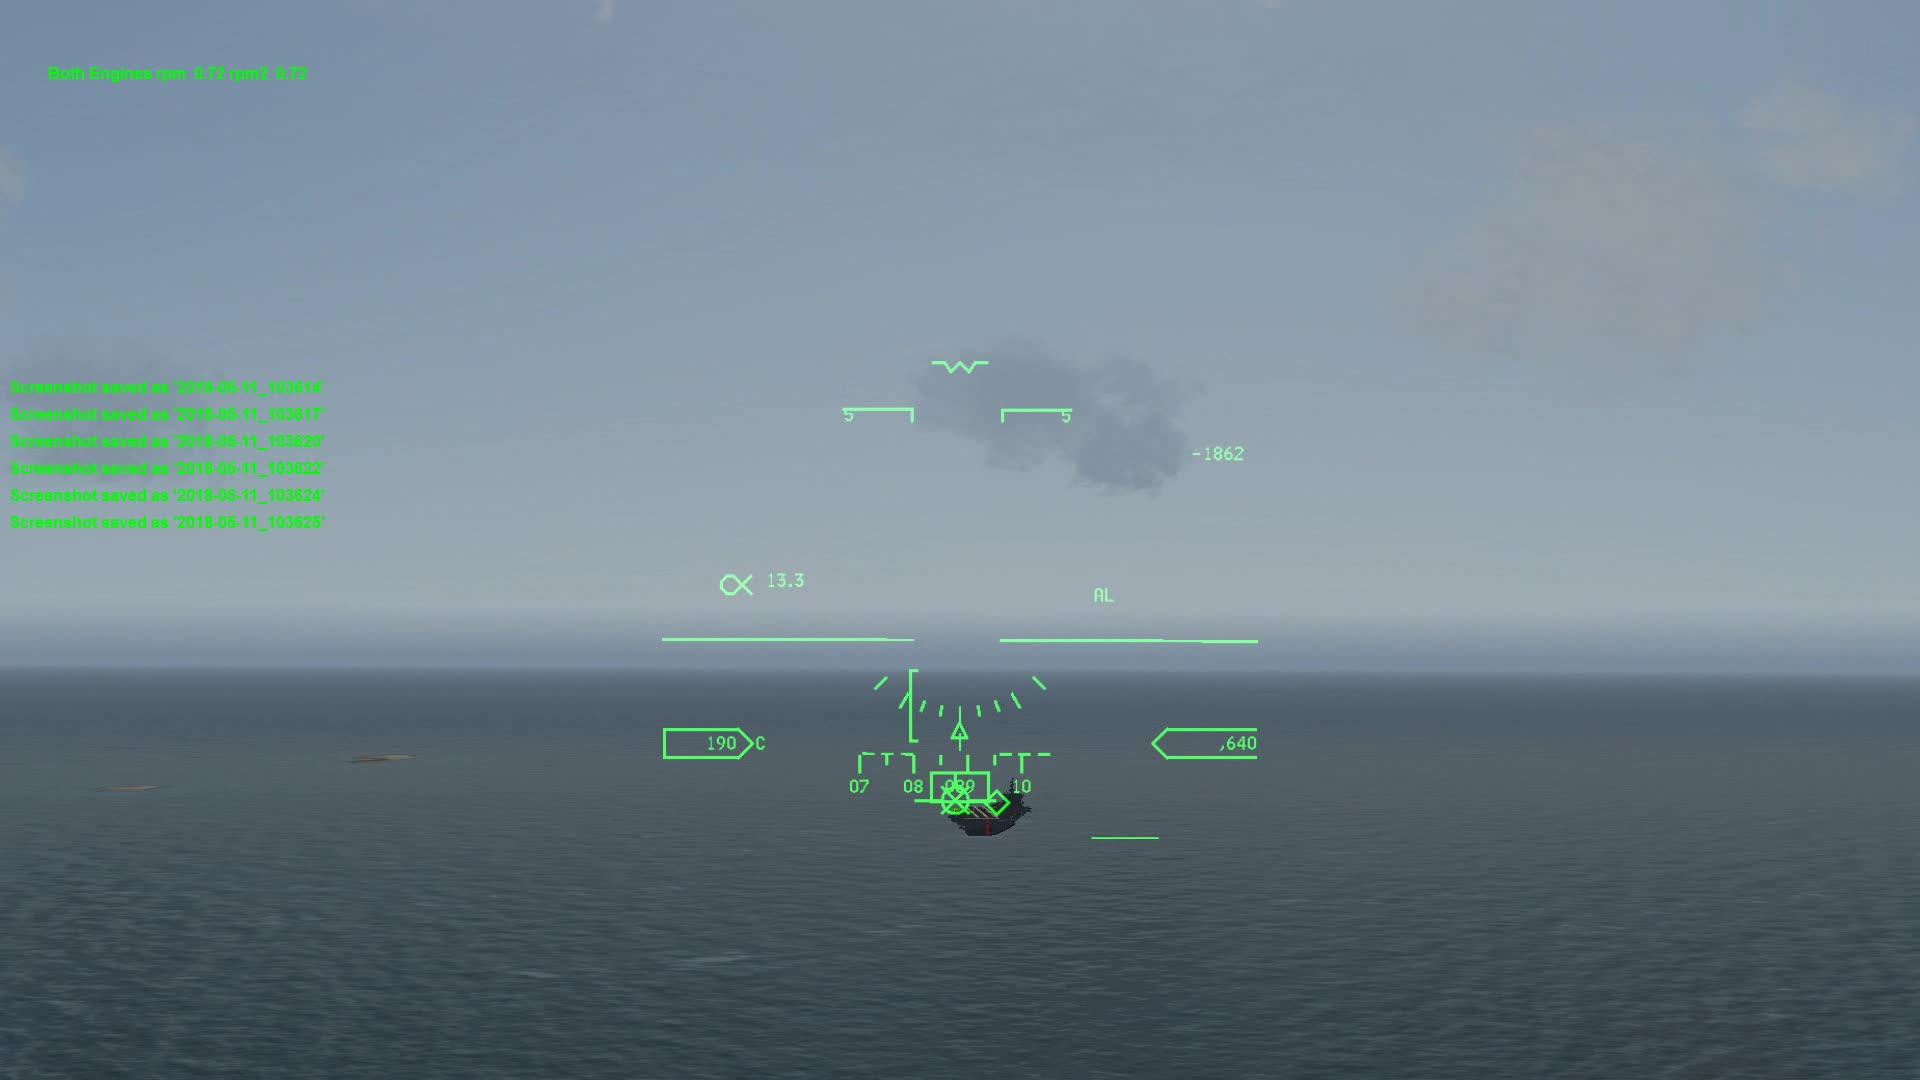speed vector: (913, 786, 990, 819)
